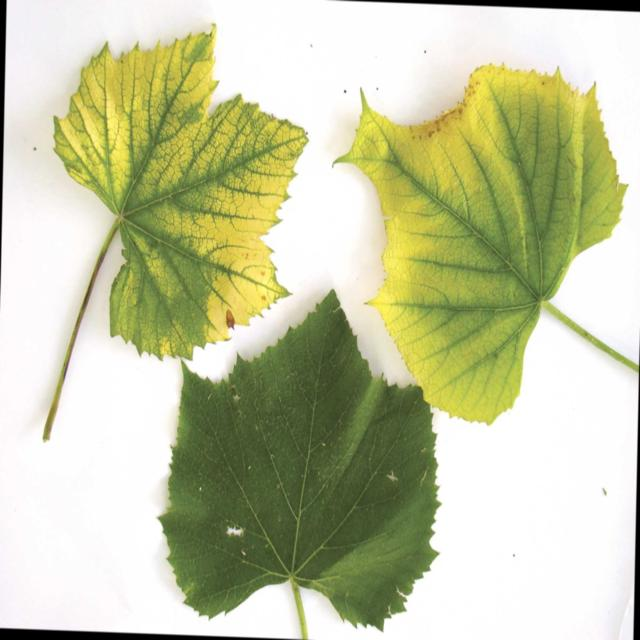Chlorosis: (332, 50, 628, 426), (16, 13, 289, 342)
